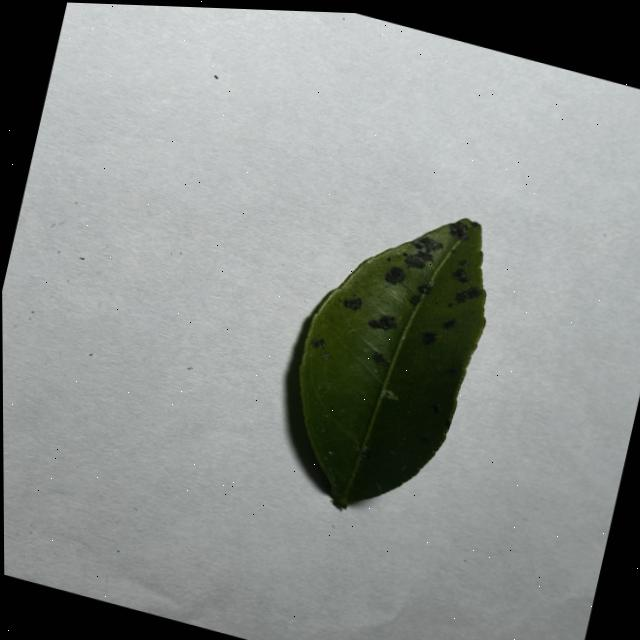sooty_mold: (298, 218, 484, 506)
